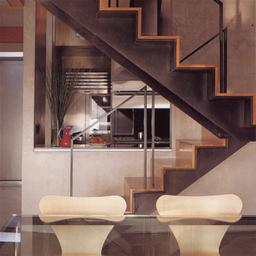Escaleras: (31, 3, 255, 212)
